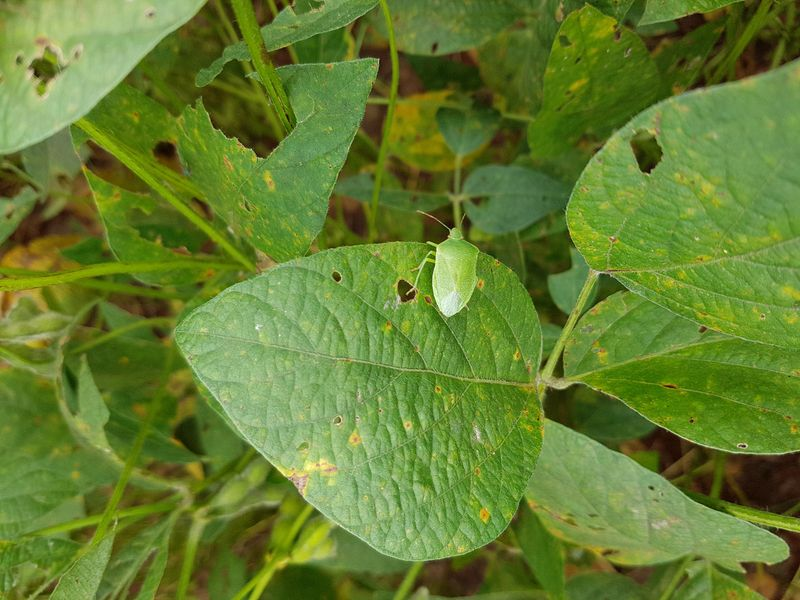Nezara_viridula_adulto: (404, 201, 496, 325)
